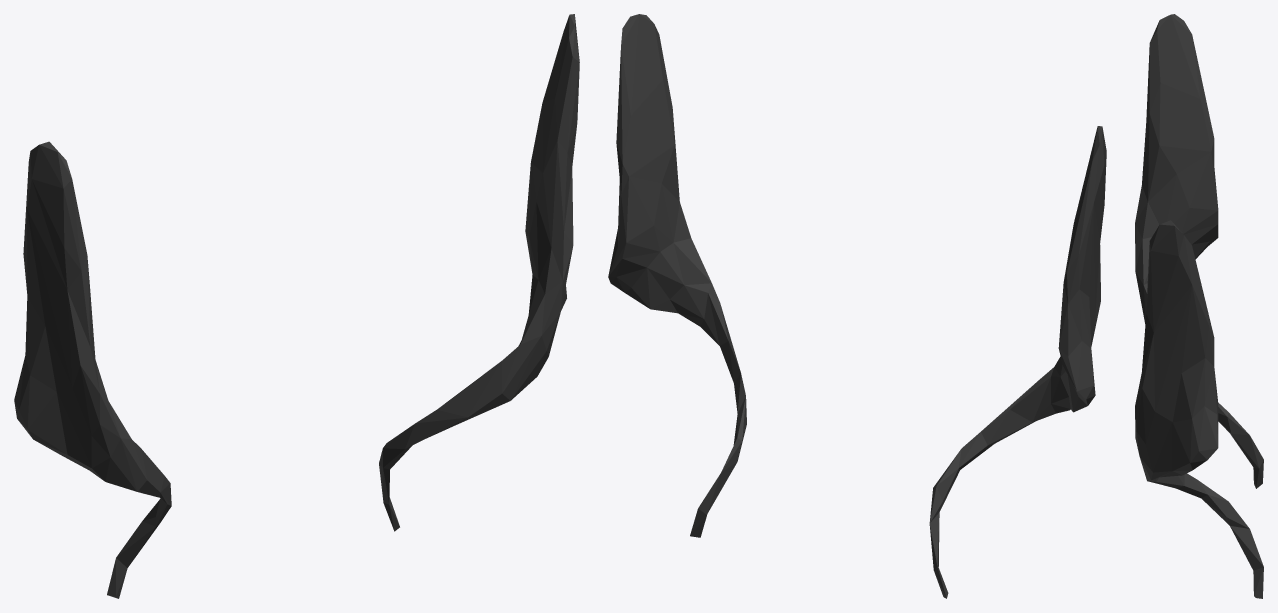
The model's file is m_extensor_carpi_obliquus.glb.
The picture shows the model from 3 angles, left to right: view 1: azimuth 30°, elevation 25°; view 2: azimuth 150°, elevation 25°; view 3: azimuth 270°, elevation 25°; orthographic projection. The views are drawn at different scales.
Visible parts, largest first — view 1: m_extensor_carpi_obliquus; view 2: m_extensor_carpi_obliquus; view 3: m_extensor_carpi_obliquus.
Part boxes in pixels (left/top/right/bottom): m_extensor_carpi_obliquus: left=14, top=14, right=579, bottom=598; m_extensor_carpi_obliquus: left=608, top=14, right=1106, bottom=598; m_extensor_carpi_obliquus: left=1135, top=14, right=1263, bottom=598.
Bounding box in the file's own units: 0.0049 × 0.00451 × 0.00124.
1 material, 1 textured.
